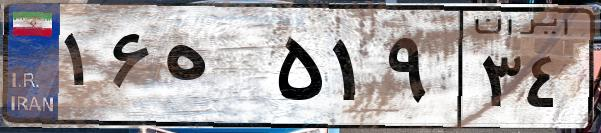1: (330, 28, 385, 110), (57, 26, 110, 100)
3: (475, 38, 525, 113)
4: (525, 38, 570, 115)
5: (270, 28, 330, 110)
6: (110, 28, 158, 98)
9: (385, 28, 445, 110)
ه: (158, 20, 270, 120)
